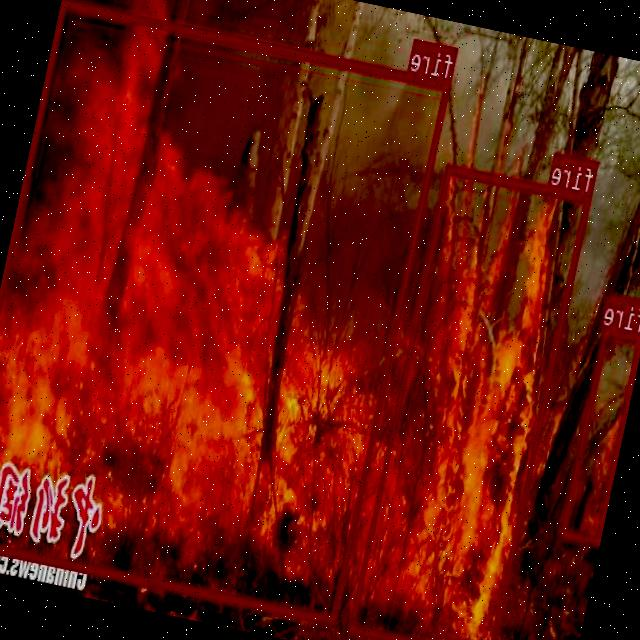fire: (0, 0, 451, 622), (348, 163, 591, 640), (561, 326, 640, 544)
